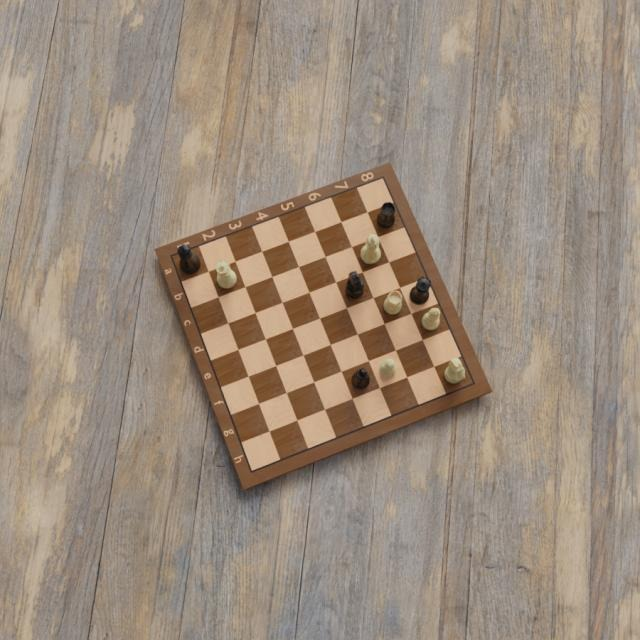black-bishop: (350, 366, 371, 389)
black-king: (176, 242, 200, 277)
black-knight: (346, 272, 364, 300)
black-queen: (408, 275, 431, 306)
black-rook: (376, 202, 396, 230)
white-bishop: (420, 307, 443, 333)
white-king: (358, 234, 381, 265)
white-knight: (444, 357, 466, 385)
white-pawn: (378, 356, 397, 379)
white-queen: (214, 260, 237, 291)
white-rook: (383, 290, 405, 318)
